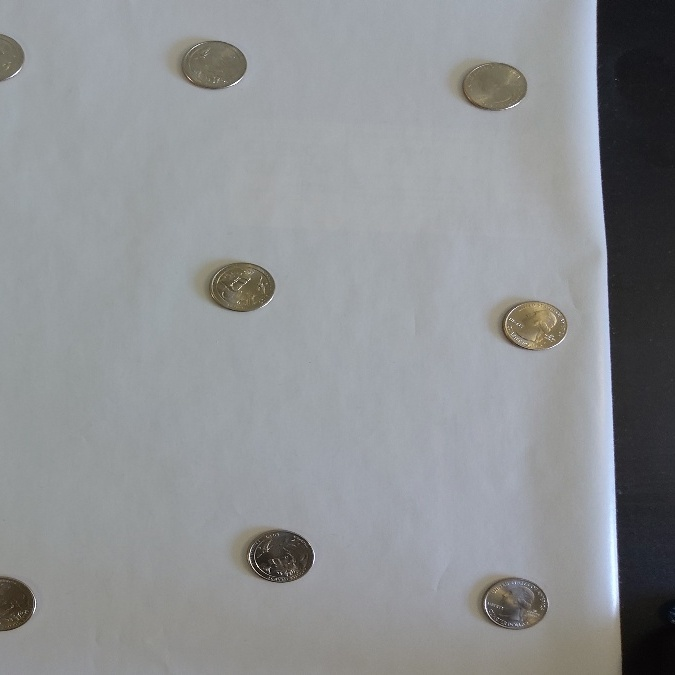coin_quarter: (467, 569, 556, 639), (239, 518, 322, 590), (194, 254, 283, 320), (494, 293, 575, 356), (457, 56, 535, 119), (174, 36, 254, 94)
